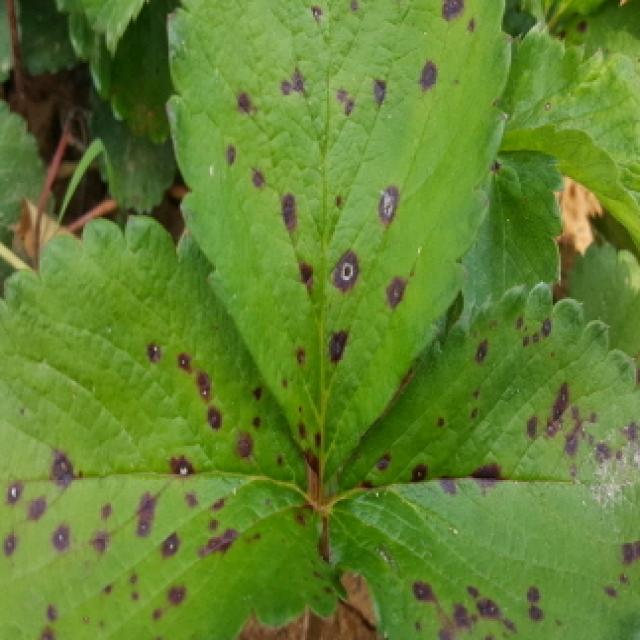Leaf Spot: (164, 0, 517, 510), (0, 214, 348, 640), (325, 281, 640, 640), (446, 149, 566, 328), (564, 240, 640, 389), (558, 0, 640, 74), (70, 0, 150, 61), (502, 0, 556, 42)
